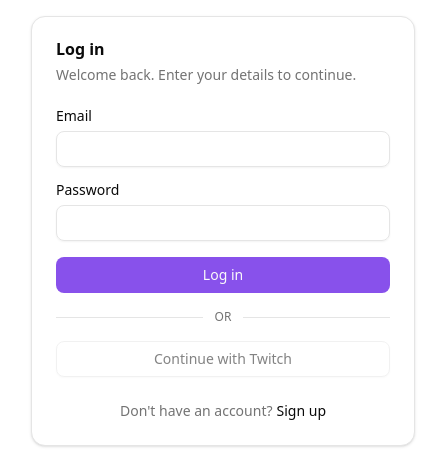
Test case: LoginPage › modo mock: el botón de Twitch queda deshabilitado con tooltip explicativo
The width and height of the screenshot is (446, 464).
Hover over the element showing "Continue with Twitch".
mouse_move(223, 359)  # box [56,341,390,377]
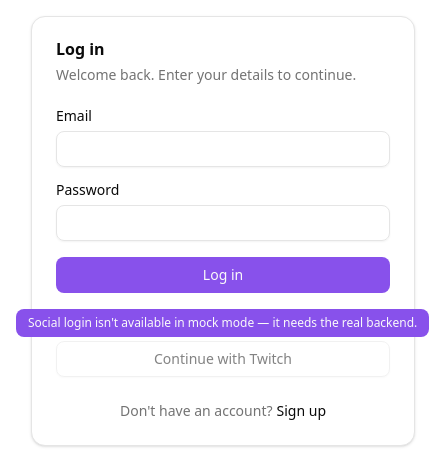
Result: the tooltip reads "Social login isn't available in mock mode — it needs the real backend." at [28,314,417,331]
